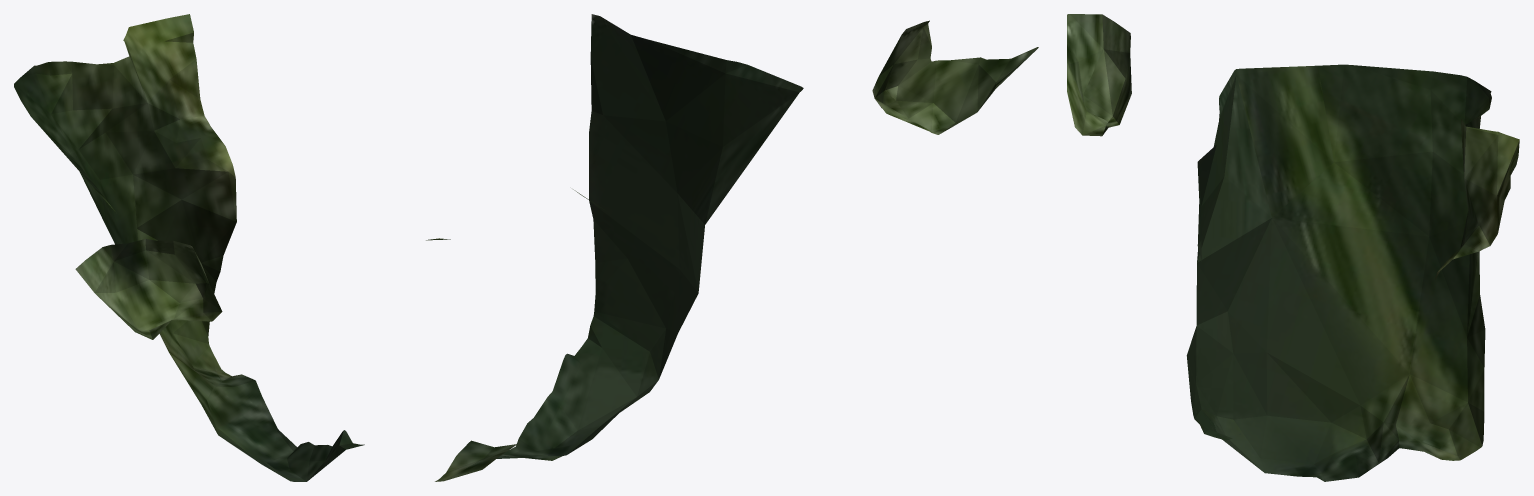
The picture shows the model from 3 angles, left to right: view 1: azimuth 30°, elevation 25°; view 2: azimuth 150°, elevation 25°; view 3: azimuth 270°, elevation 25°; orthographic projection. The views are drawn at different scales.
Bounding box in the file's own units: 3.35 × 3.32 × 4.24.
Materials: 1 (1 with a texture image).
